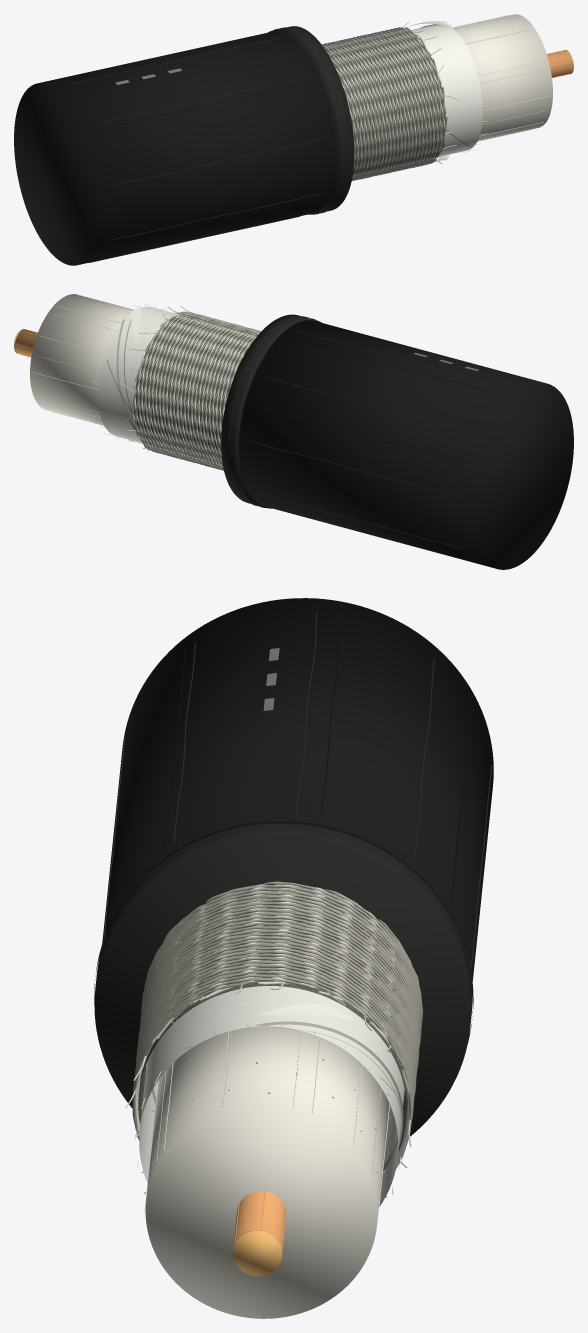
File: rf-canare-l5cfb-macro.glb
The picture shows the model from 3 angles, top to bottom: view 1: azimuth 30°, elevation 25°; view 2: azimuth 150°, elevation 25°; view 3: azimuth 270°, elevation 25°; orthographic projection. The views are drawn at different scales.
Parts seen in each view (by area): view 1: macro jacket body, macro dielectric exposed core, shadow seen through braid windows, continuous foil sleeve under braid, thick jacket cut wall, rounded jacket cut lip, polished solid center conductor, macro braid shadow carrier 08 strand 1, macro braid shadow carrier 06 strand 1, macro braid shadow carrier 09 strand 1, macro braid shadow carrier 07 strand 1, macro braid shadow carrier 10 strand 1 (+9 smaller); view 2: macro jacket body, macro dielectric exposed core, shadow seen through braid windows, continuous foil sleeve under braid, thick jacket cut wall, rounded jacket cut lip, macro braid shadow carrier 04 strand 1, macro braid shadow carrier 03 strand 1, macro braid shadow carrier 02 strand 1, macro braid shadow carrier 01 strand 1, macro braid shadow carrier 05 strand 1, macro braid shadow carrier 14 strand 1 (+9 smaller); view 3: macro jacket body, macro dielectric exposed core, thick jacket cut wall, continuous foil sleeve under braid, rounded jacket cut lip, polished solid center conductor, shadow seen through braid windows, macro braid shadow carrier 07 strand 3, polished conductor cut face glow, macro braid shadow carrier 10 strand 3, macro braid shadow carrier 11 strand 3, macro braid shadow carrier 06 strand 3 (+11 smaller).
Part boxes in pixels (bbox=[...]): macro jacket body: bbox=[14, 31, 336, 265]; macro dielectric exposed core: bbox=[453, 14, 552, 140]; shadow seen through braid windows: bbox=[325, 30, 445, 177]; continuous foil sleeve under braid: bbox=[411, 24, 482, 156]; thick jacket cut wall: bbox=[268, 26, 354, 214]; rounded jacket cut lip: bbox=[273, 27, 346, 214]; polished solid center conductor: bbox=[547, 50, 572, 77]; macro braid shadow carrier 08 strand 1: bbox=[346, 27, 429, 180]; macro braid shadow carrier 06 strand 1: bbox=[340, 29, 422, 179]; macro braid shadow carrier 09 strand 1: bbox=[350, 27, 433, 179]; macro braid shadow carrier 07 strand 1: bbox=[342, 28, 426, 180]; macro braid shadow carrier 10 strand 1: bbox=[353, 37, 437, 179]; macro jacket body: bbox=[239, 320, 573, 569]; macro dielectric exposed core: bbox=[30, 294, 133, 425]; shadow seen through braid windows: bbox=[134, 316, 257, 464]; continuous foil sleeve under braid: bbox=[98, 306, 178, 442]; thick jacket cut wall: bbox=[221, 314, 321, 508]; rounded jacket cut lip: bbox=[229, 316, 316, 507]; macro braid shadow carrier 04 strand 1: bbox=[139, 318, 260, 464]; macro braid shadow carrier 03 strand 1: bbox=[142, 318, 260, 466]; macro braid shadow carrier 02 strand 1: bbox=[146, 319, 259, 465]; macro braid shadow carrier 01 strand 1: bbox=[149, 320, 257, 467]; macro braid shadow carrier 05 strand 1: bbox=[136, 317, 257, 463]; macro braid shadow carrier 14 strand 1: bbox=[153, 321, 253, 468]; macro jacket body: bbox=[102, 598, 493, 980]; macro dielectric exposed core: bbox=[145, 1026, 389, 1318]; thick jacket cut wall: bbox=[94, 821, 472, 1136]; continuous foil sleeve under braid: bbox=[139, 986, 404, 1206]; rounded jacket cut lip: bbox=[94, 823, 473, 1043]; polished solid center conductor: bbox=[233, 1191, 286, 1250]; shadow seen through braid windows: bbox=[138, 888, 408, 1151]; macro braid shadow carrier 07 strand 3: bbox=[139, 919, 421, 1064]; polished conductor cut face glow: bbox=[232, 1230, 282, 1276]; macro braid shadow carrier 10 strand 3: bbox=[133, 885, 421, 1085]; macro braid shadow carrier 11 strand 3: bbox=[138, 888, 420, 1085]; macro braid shadow carrier 06 strand 3: bbox=[141, 919, 422, 1114].
Size of the model in its own units: 6.48 by 2.12 by 2.23.
